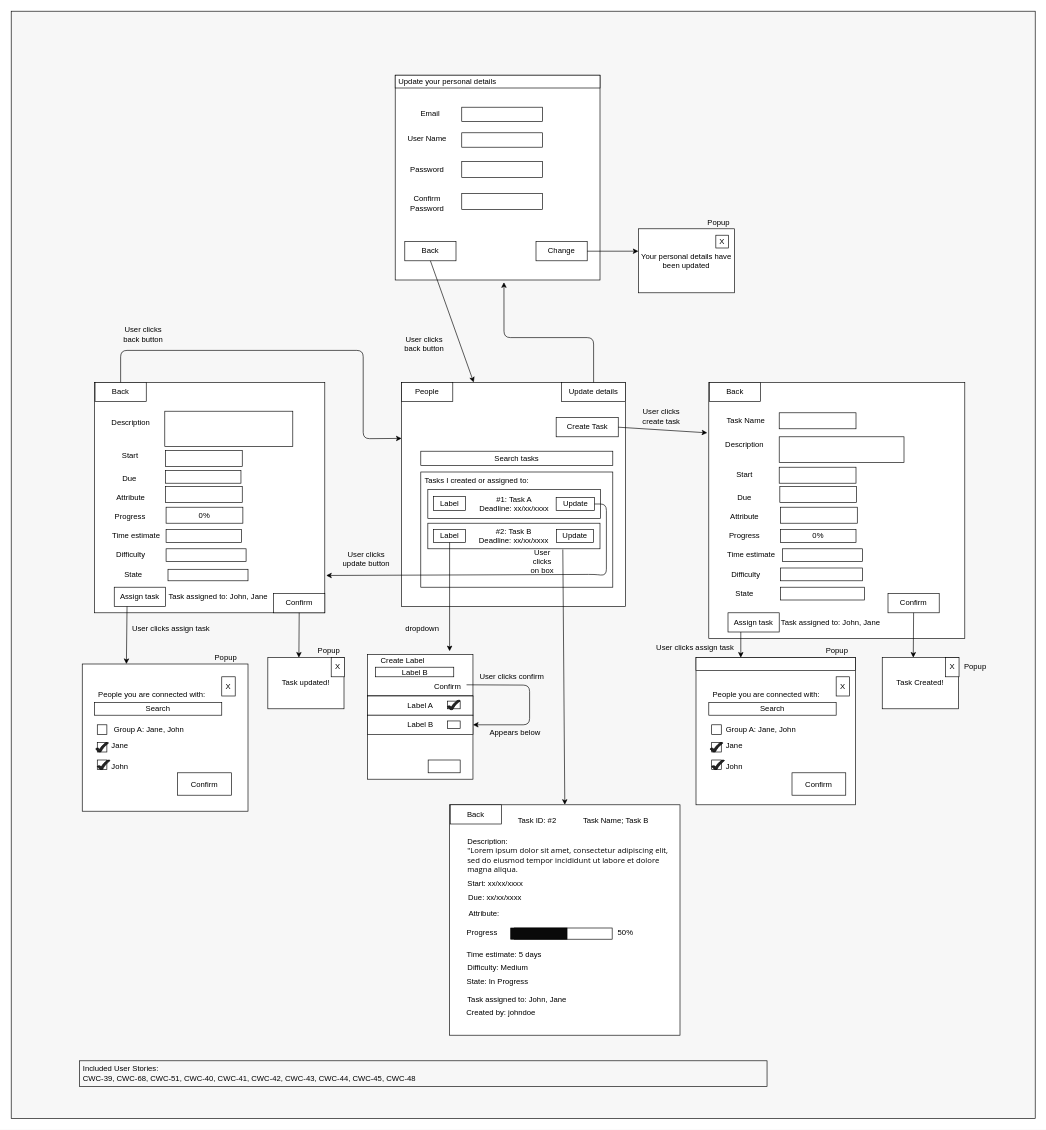
This 1046x1130 diagram has some shape labels left out. Here are the shapes that lost their labels. From the top down, the centre of each, then its label:
point 775,663: Assign Task to:
point 444,766: Select
